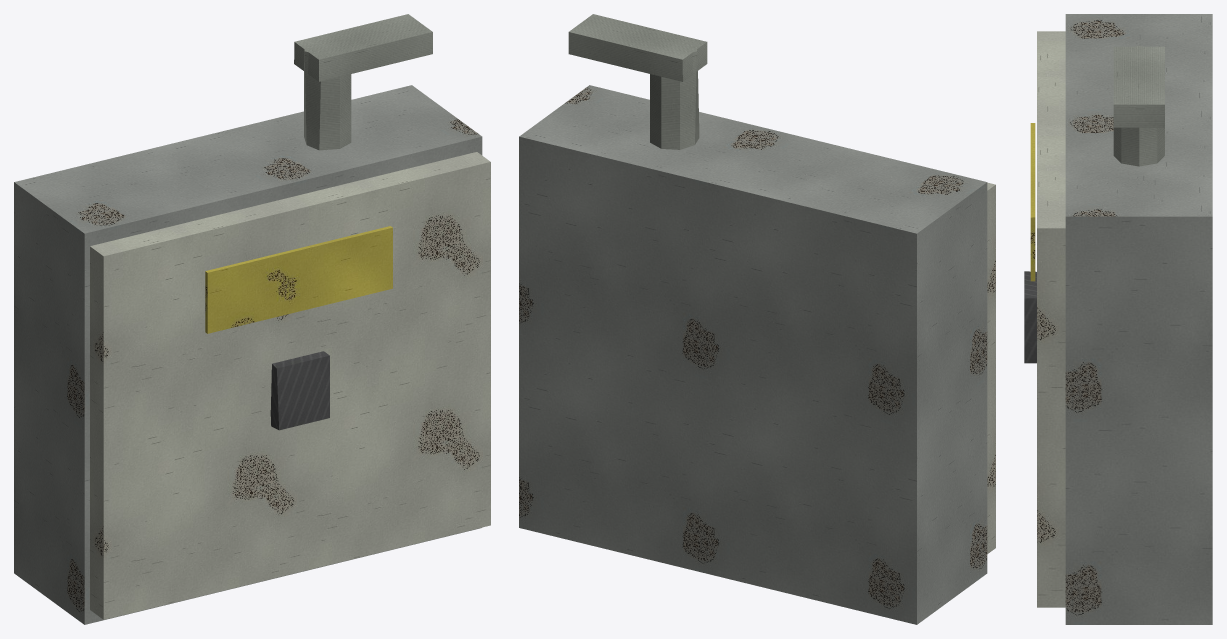
The model's file is utilbox_v3.glb.
3 views of the same model, side by side, from view 1: azimuth 30°, elevation 25°; view 2: azimuth 150°, elevation 25°; view 3: azimuth 270°, elevation 25° (orthographic). The views are drawn at different scales.
Parts seen in each view (by area): view 1: Variant_utilbox_3; view 2: Variant_utilbox_3; view 3: Variant_utilbox_3.
Boxes of the visible parts, <box> form: Variant_utilbox_3: <box>14,14,490,624</box>; Variant_utilbox_3: <box>519,14,995,624</box>; Variant_utilbox_3: <box>1024,14,1212,624</box>.
Bounding box in the file's own units: 0.3 × 0.35 × 0.118.
Materials: 5 (5 with a texture image).
